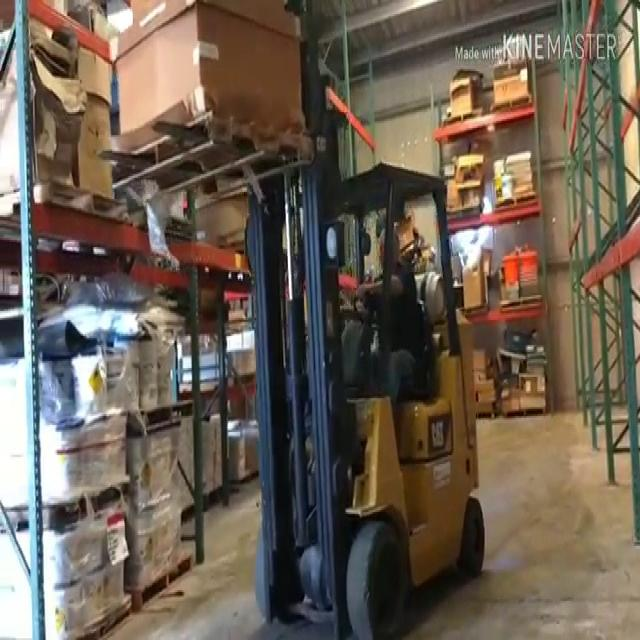Chariot elevateur: (237, 158, 501, 640)
